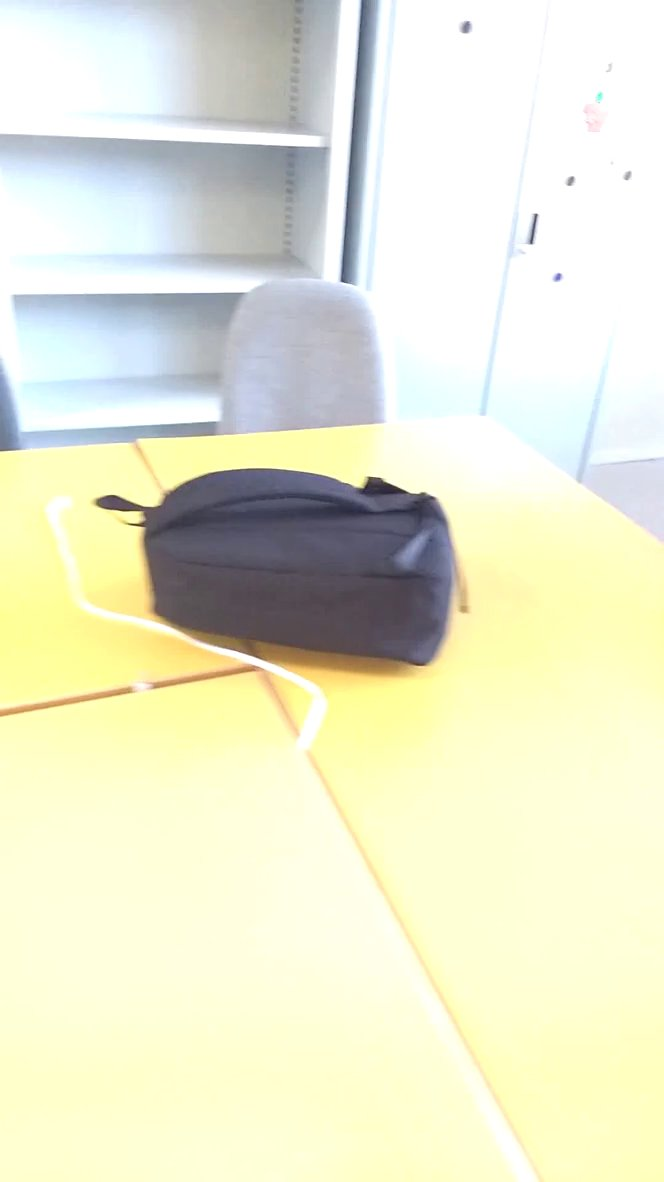bag: (91, 456, 476, 683)
chair: (210, 270, 410, 451)
